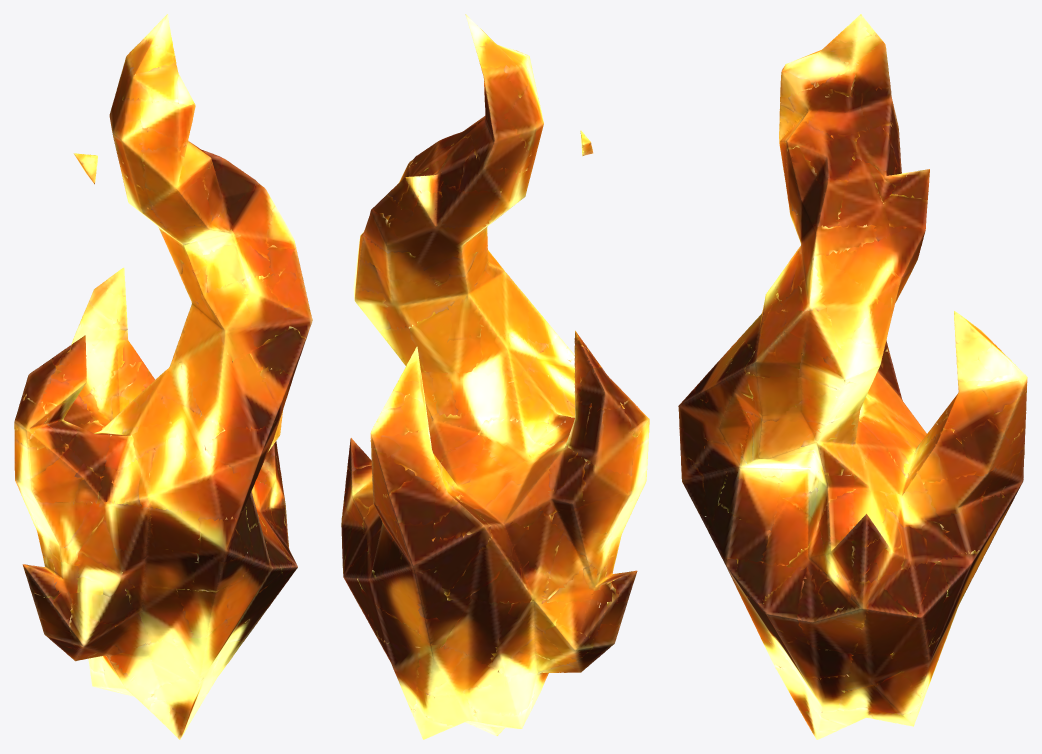
Rendered from flame-shard.glb.
3 views of the same model, side by side, from view 1: azimuth 30°, elevation 25°; view 2: azimuth 150°, elevation 25°; view 3: azimuth 270°, elevation 25° (orthographic). The views are drawn at different scales.
Size of the model in its own units: 0.7795 by 1.9 by 0.822.
Materials: 1 (1 with a texture image).
